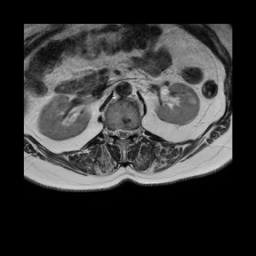CCS_stenosis: (119, 124, 126, 144)
LFS_normal: (131, 125, 137, 139)
LLS_normal: (126, 123, 131, 140)
RFS_normal: (109, 125, 114, 140)
RLS_normal: (114, 124, 120, 141)
